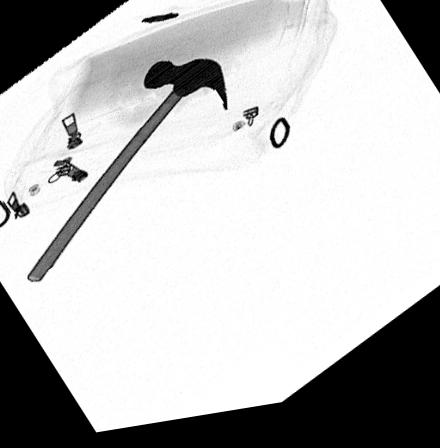Hammer: (25, 63, 226, 284)
